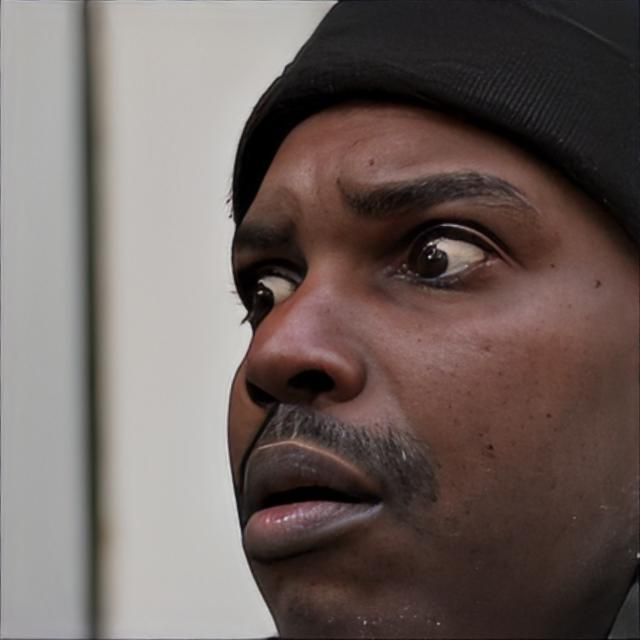fear: (223, 80, 640, 640)
